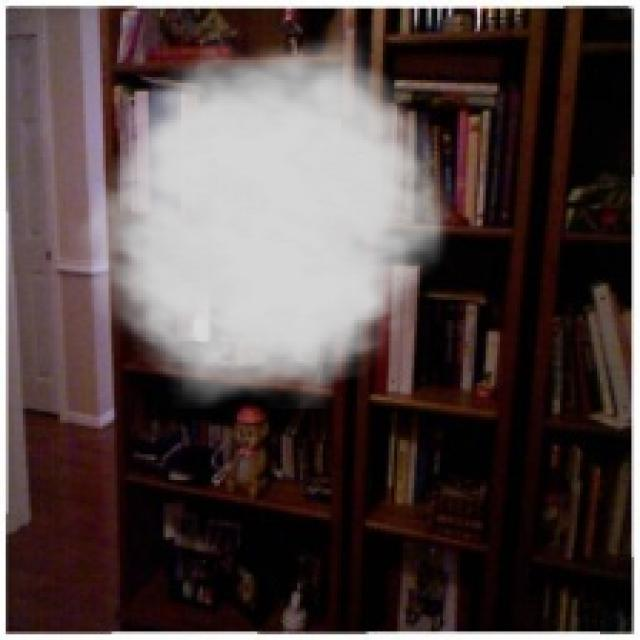Smoke: (68, 22, 466, 408)
